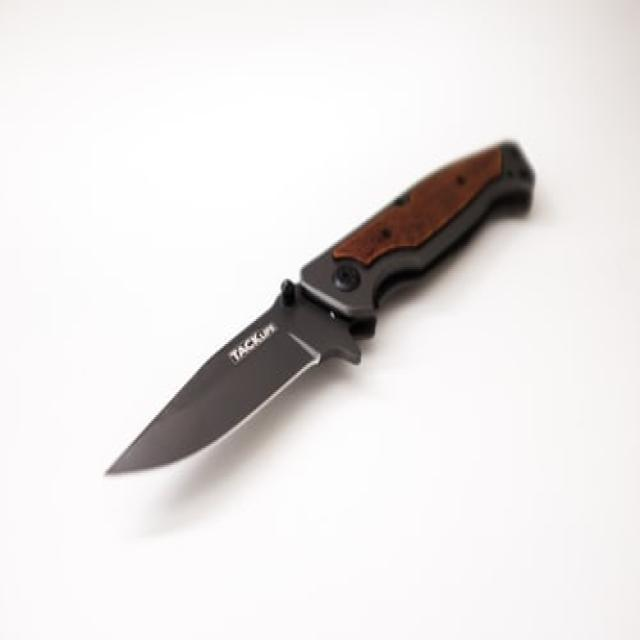faca: (62, 127, 552, 492)
